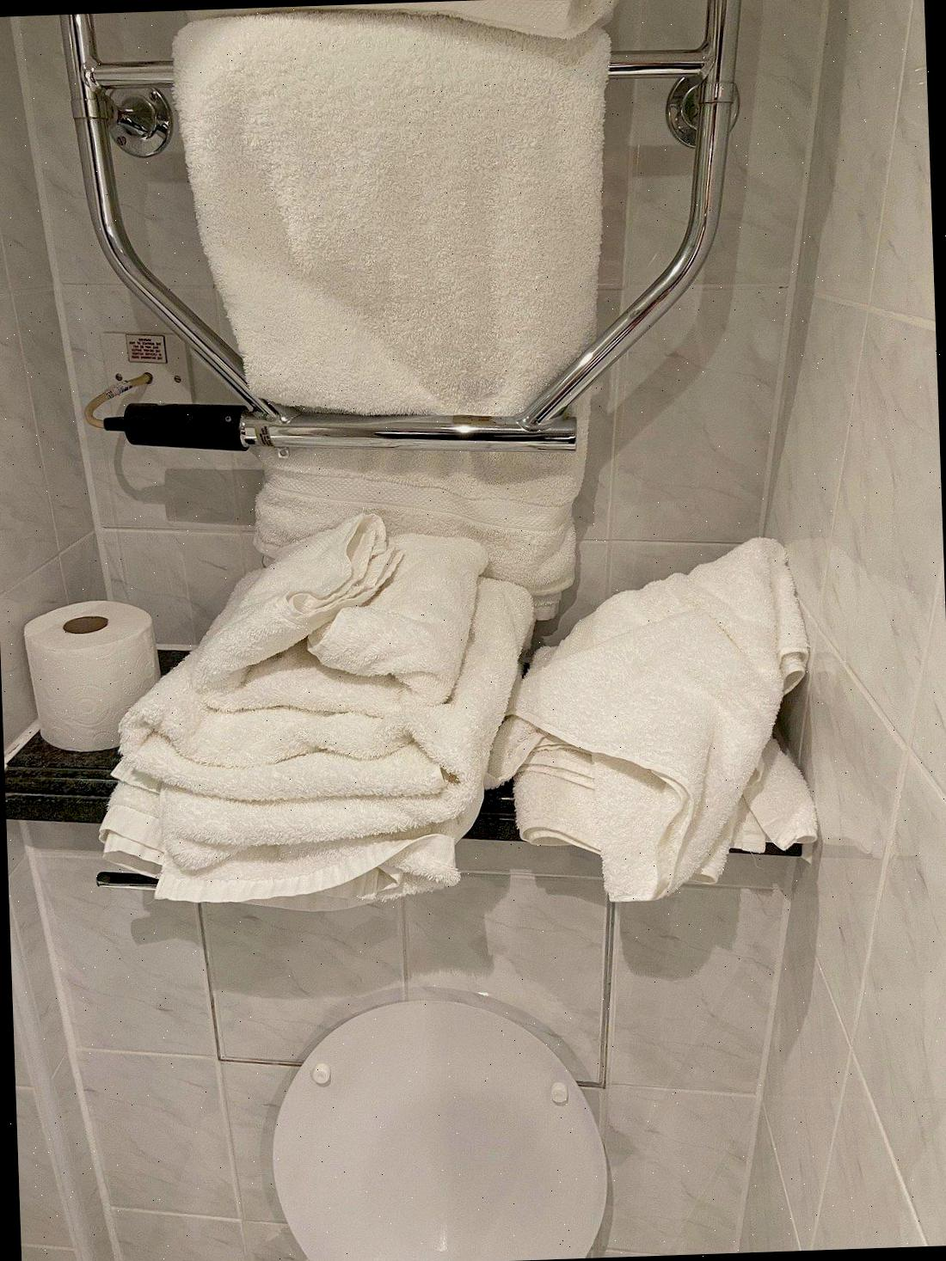disorganized_towel: (94, 523, 818, 914)
